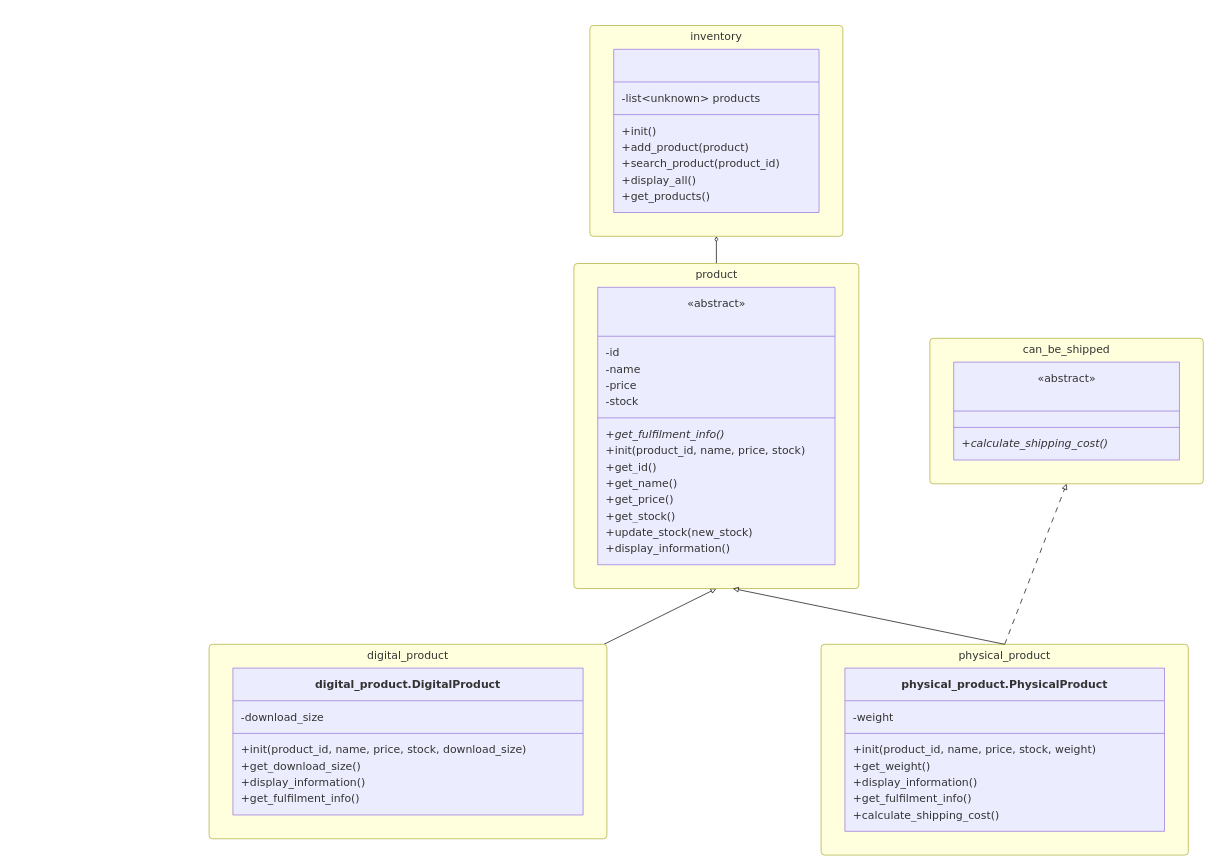
Image size: 1215x867. Some labels were removed from this diagram. Each missing label, with the box of its shape:
can_be_shipped.CanBeShipped: (953, 361, 1179, 460)
inventory.Inventory: (613, 49, 819, 213)
product.Product: (597, 287, 835, 565)
